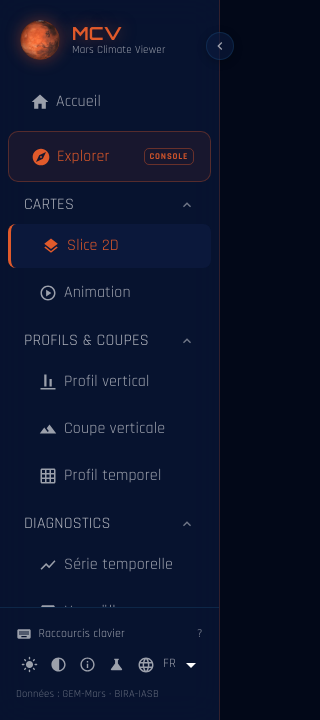
Test: memorisation des groupes de navigation › tient quand l ecriture est refusee
Click the button "Cartes".
click(49, 204)  # box [24,194,195,215]
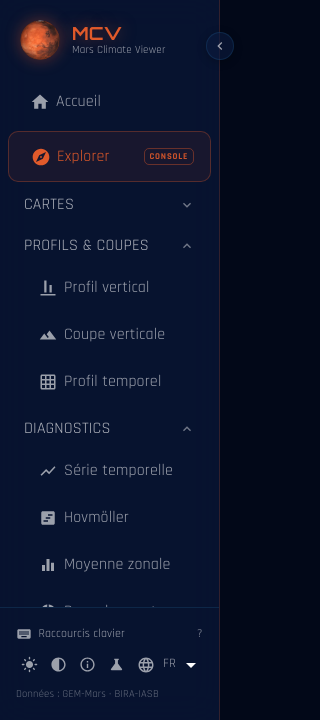
Expected: the button "Cartes" is collapsed, [24,194,195,215]
